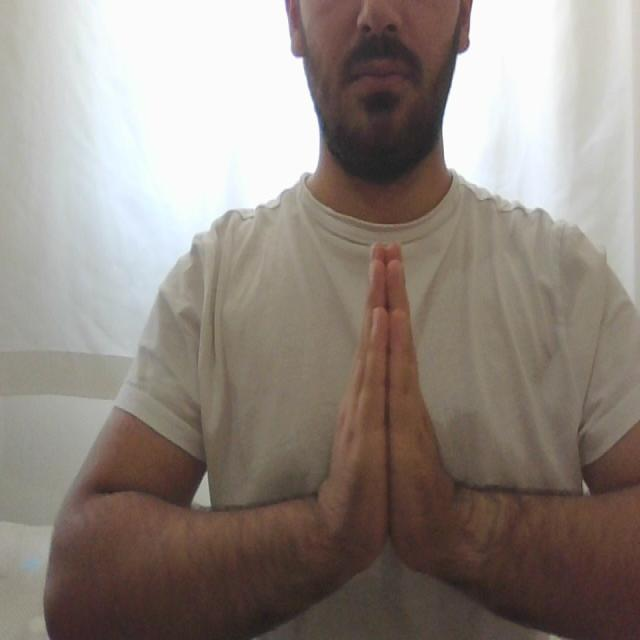Ozur-Dilemek: (308, 236, 466, 607)
